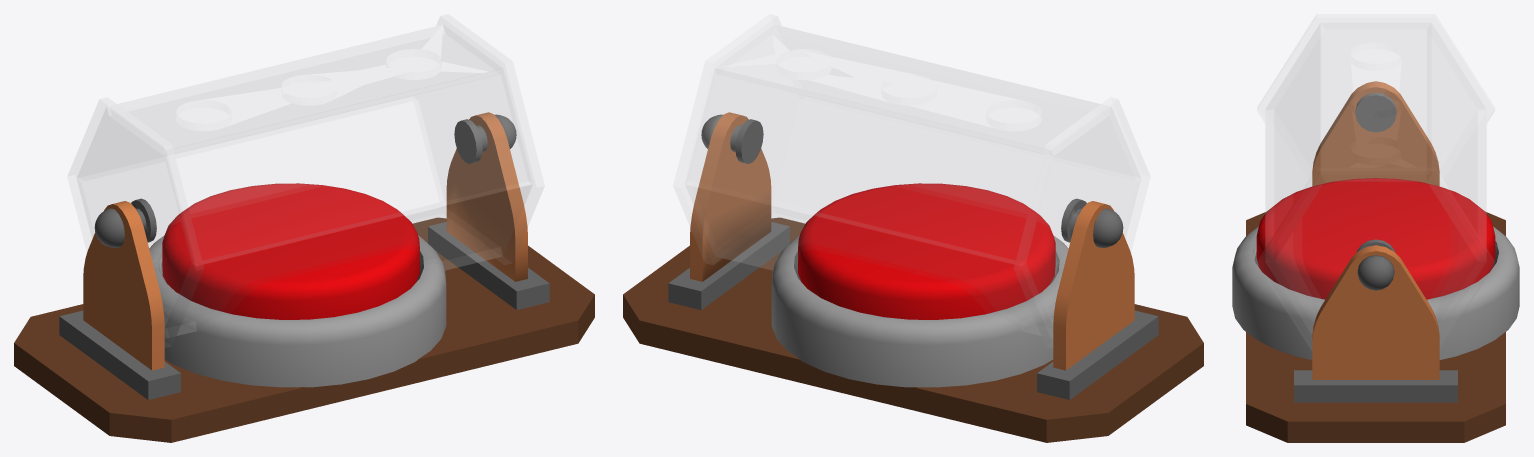
The model's file is Bonus_sphere.fbx.
3 views of the same model, side by side, from view 1: azimuth 30°, elevation 25°; view 2: azimuth 150°, elevation 25°; view 3: azimuth 270°, elevation 25° (orthographic). The views are drawn at different scales.
Parts seen in each view (by area): view 1: Lototron_cylinder, Lototron_stand, Button_top, Button_platform; view 2: Lototron_cylinder, Lototron_stand, Button_top, Button_platform; view 3: Lototron_stand, Lototron_cylinder, Button_top, Button_platform.
Part boxes in pixels (box(x1,y1,x2,y2)): Lototron_cylinder: box(76, 24, 532, 338); Lototron_stand: box(14, 112, 594, 442); Button_top: box(162, 183, 419, 319); Button_platform: box(149, 235, 446, 387); Lototron_cylinder: box(685, 24, 1141, 338); Lototron_stand: box(623, 112, 1203, 442); Button_top: box(798, 183, 1055, 319); Button_platform: box(771, 235, 1068, 387); Lototron_stand: box(1246, 81, 1505, 442); Lototron_cylinder: box(1265, 22, 1486, 334); Button_top: box(1256, 178, 1495, 299); Button_platform: box(1232, 226, 1519, 359).
Size of the model in its own units: 361 by 186 by 200.
